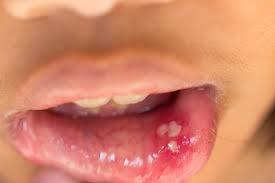Ulcer: (150, 120, 204, 166)
